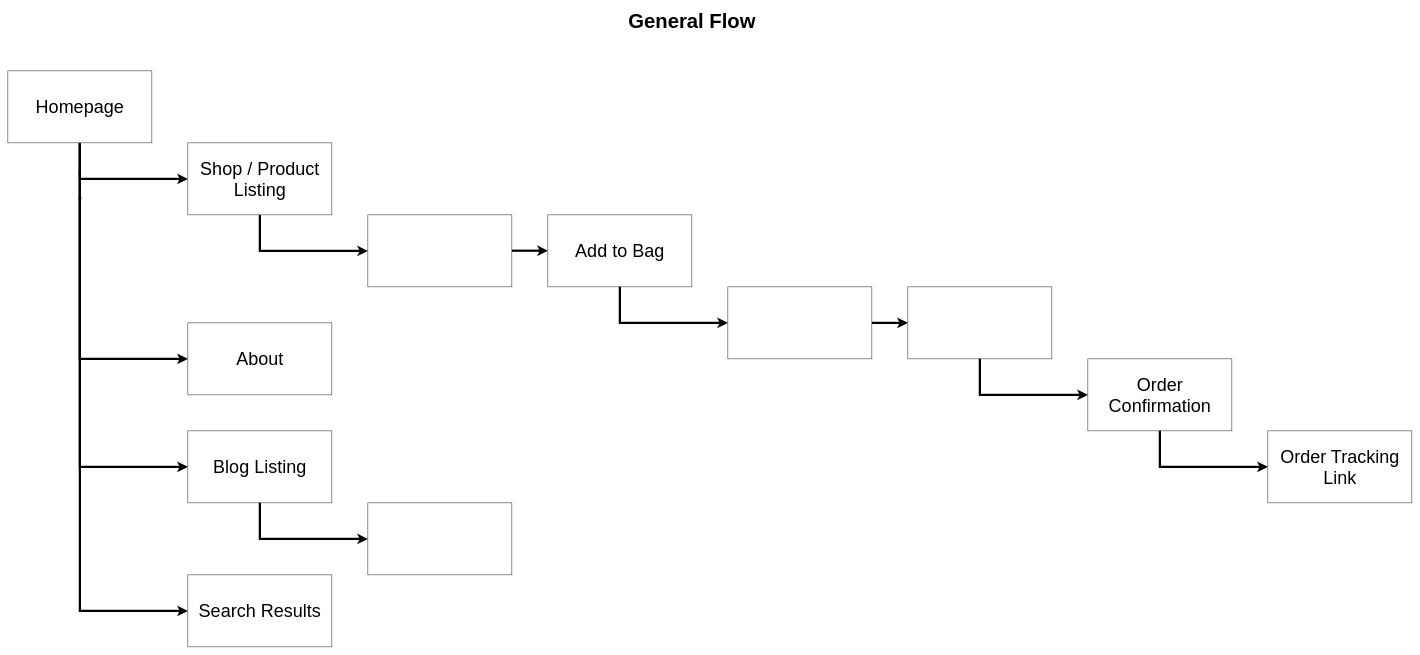
The diagram is 1420 pixels wide and 655 high, and some of its shapes have lost their labels. The centre of each missing label's shape, as x and y in pixels:
Bag / Cart: point (799, 322)
Blog Post: point (439, 538)
Checkout: point (979, 322)
Product Detail: point (439, 250)
